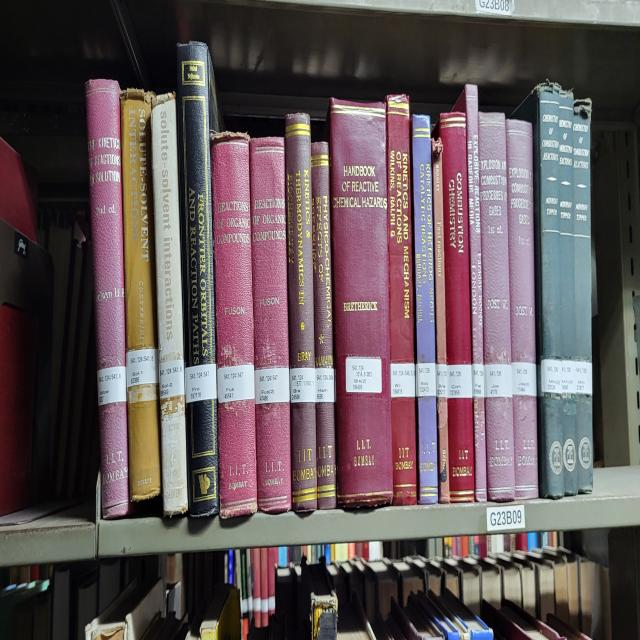Book: (329, 97, 392, 506), (515, 87, 565, 498), (176, 43, 219, 517), (85, 78, 130, 519), (210, 133, 258, 519), (120, 89, 161, 501), (151, 95, 188, 517), (250, 138, 291, 511), (479, 114, 515, 501), (455, 84, 488, 501), (440, 114, 475, 501), (285, 114, 318, 514), (386, 95, 418, 506), (506, 119, 539, 498), (412, 116, 439, 503), (311, 143, 336, 509), (572, 100, 592, 492), (559, 92, 578, 495), (431, 138, 450, 503)
Label: (218, 363, 255, 403), (255, 368, 290, 406), (185, 363, 218, 403), (345, 357, 382, 392), (126, 349, 159, 387), (98, 365, 126, 406), (159, 360, 185, 400), (484, 363, 512, 398), (290, 368, 316, 403), (390, 363, 415, 398), (511, 363, 536, 395), (448, 365, 472, 398), (541, 360, 562, 395), (315, 368, 335, 403), (416, 363, 436, 398), (561, 360, 578, 395), (575, 360, 592, 395), (472, 363, 485, 398), (436, 363, 448, 398)
